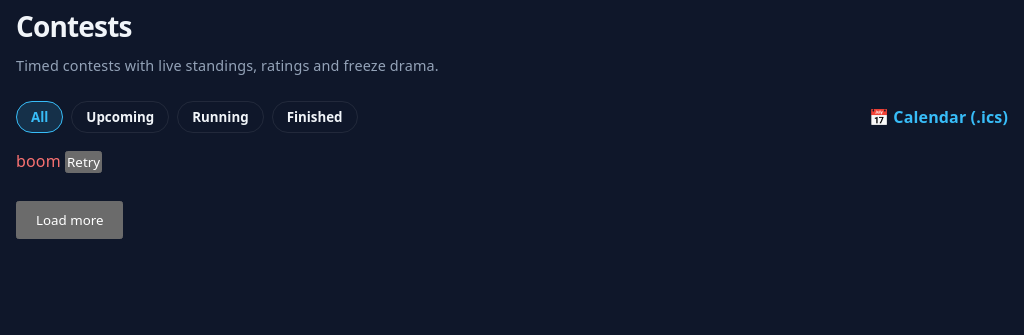
Test: ContestsPage › renders the empty state and the error state with retry
The image size is (1024, 335).
Expected: the text "boom" is shown, left=16, top=150, right=61, bottom=172
Click the button "Retry": {"x": 84, "y": 162} left=65, top=151, right=102, bottom=173
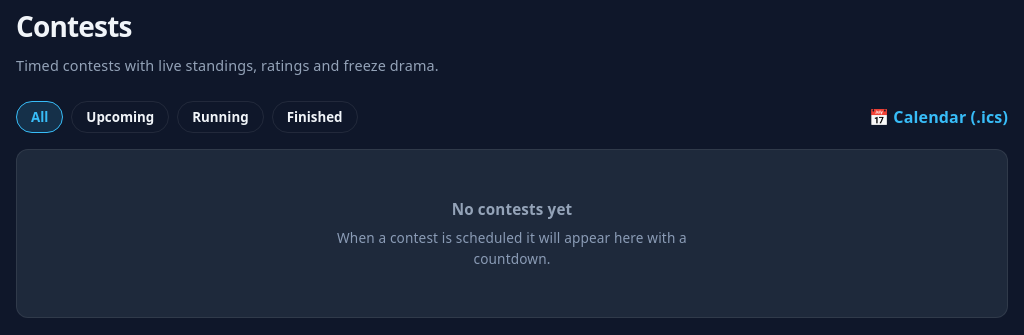
Expected: the text "No contests yet" is shown, left=452, top=198, right=572, bottom=220
